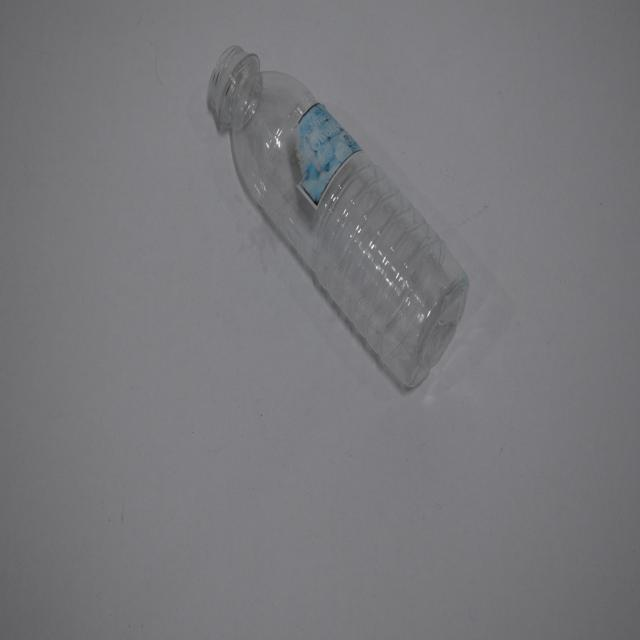bottle: (207, 41, 490, 399)
